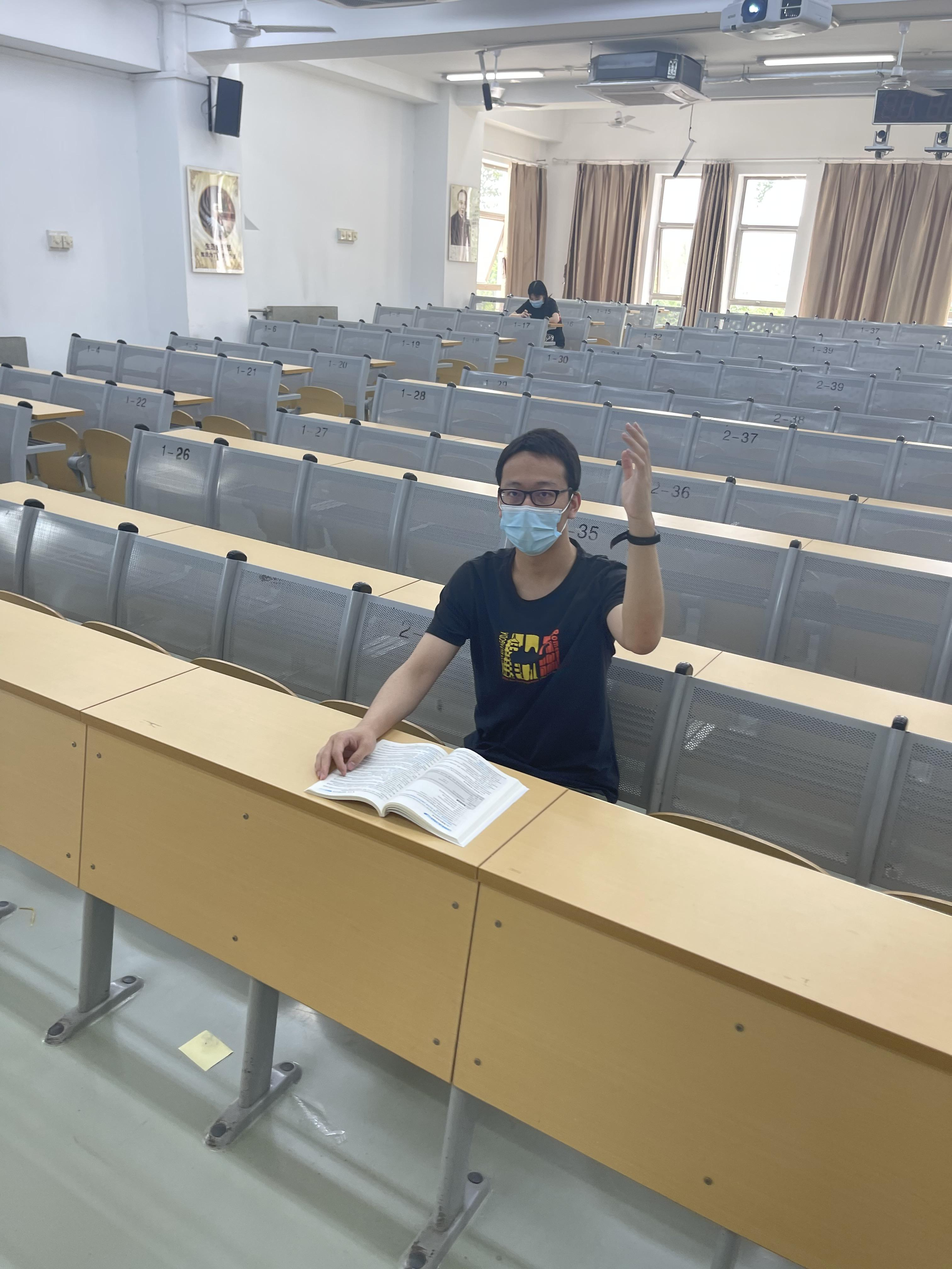study: (313, 423, 664, 831)
